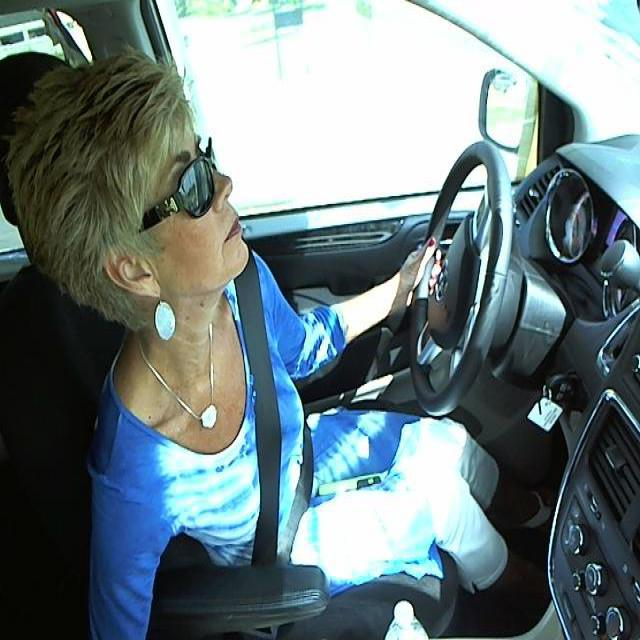seatbelt: (228, 277, 306, 564)
